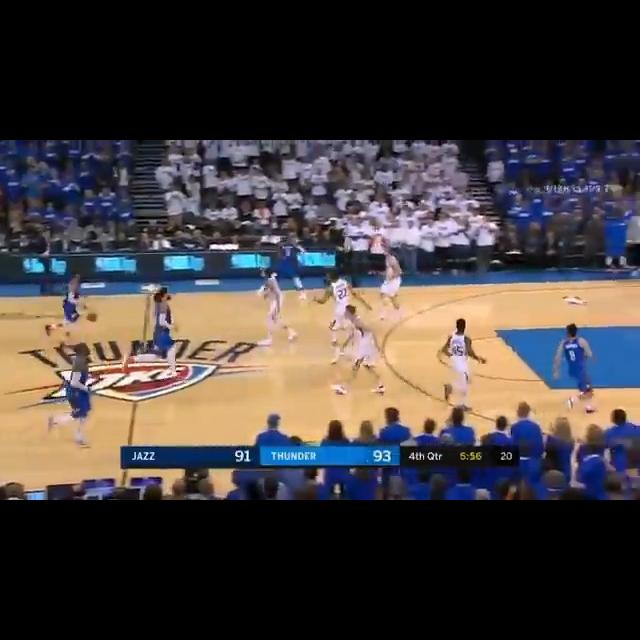basketball: (86, 313, 98, 323)
